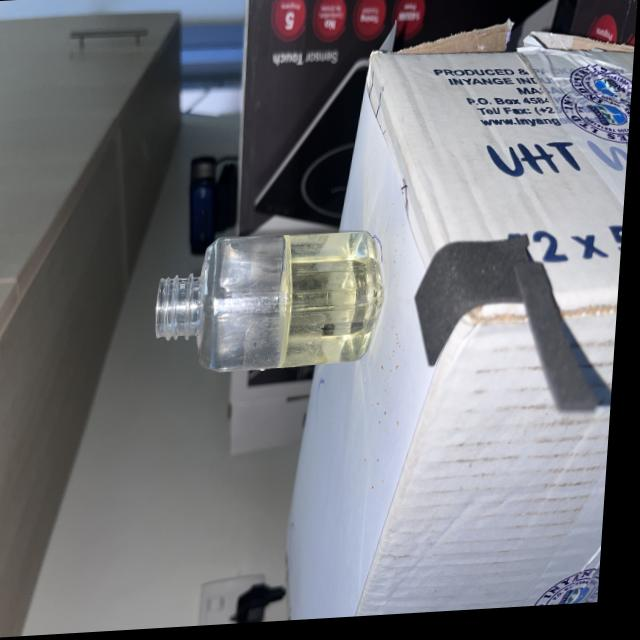oil: (280, 233, 391, 370)
